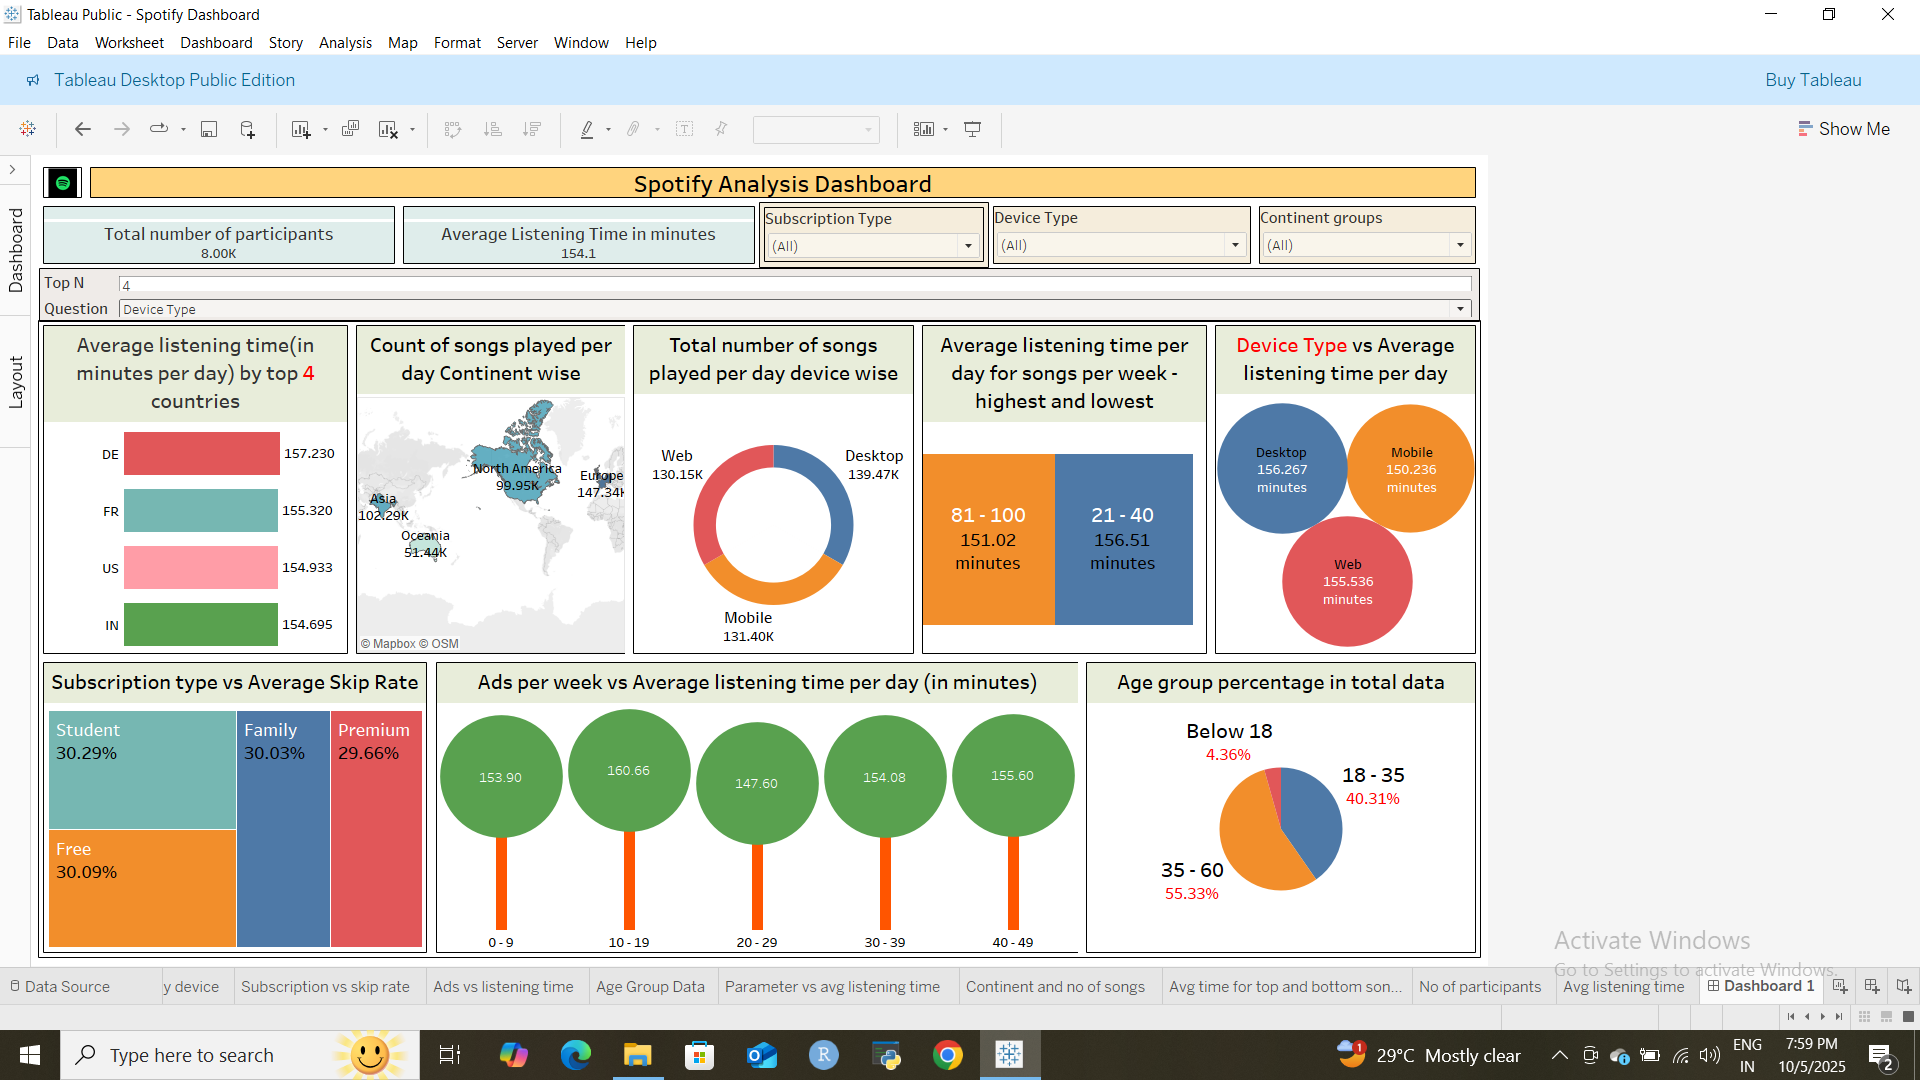

The page's visual inventory and layout, read from the dashboard file:
{"tool":"tableau","page":{"name":"Spotify Dashboard","canvas":[1000,1000],"units":"permille","ordinal":0},"visuals":[{"type":"image","param":"Image/9f5edc36-eb4d-414a-8447-10514f2bc224-cover.png","box":[4.2,9.9,32.5,48.1]},{"type":"text","box":[36.8,9.9,959,48.1]},{"type":"worksheet","title":"No of participants","mark":"Automatic","box":[4.2,57.9,247.8,81.4]},{"type":"worksheet","title":"Avg listening time","mark":"Automatic","box":[252.1,57.9,247.9,81.4]},{"type":"filter","title":"Songs played by device","param":"[federated.1gn5vaq1ly7l3y17p7z3v0p7hh3u].[none:device_type:nk]","box":[657.9,57.9,183.1,81.4]},{"type":"filter","title":"Continent and no of songs","param":"[federated.1gn5vaq1ly7l3y17p7z3v0p7hh3u].[Conuntry grouped to Continents]","box":[841,57.9,154.8,81.4]},{"type":"filter","title":"Subscription vs skip rate","param":"[federated.1gn5vaq1ly7l3y17p7z3v0p7hh3u].[none:subscription_type:nk]","box":[500.5,59.1,156.9,77.7]},{"type":"parameter","param":"[Parameters].[Parameter 1]","box":[4.8,140.6,990.5,32.1]},{"type":"parameter","param":"[Parameters].[Parameter 2]","box":[4.8,172.6,990.5,32.1]},{"type":"worksheet","title":"Avg list time parameter","mark":"Automatic","rows":["country"],"cols":["listening_time"],"box":[4.8,203.5,214.8,416.8]},{"type":"worksheet","title":"Continent and no of songs","mark":"Automatic","box":[219.7,203.5,190.8,416.8]},{"type":"worksheet","title":"Songs played by device","mark":"Pie","rows":["Calculation_955326126356881410","Calculation_955326126356897796"],"box":[410.5,203.5,198.6,416.8]},{"type":"worksheet","title":"Avg time for top and bottom songs","mark":"Automatic","cols":["listening_time"],"box":[609.1,203.5,201.3,416.8]},{"type":"worksheet","title":"Parameter vs avg listening time","mark":"Circle","box":[810.4,203.5,184.8,416.8]},{"type":"worksheet","title":"Subscription vs skip rate","mark":"Automatic","box":[4.8,620.2,269.8,369.9]},{"type":"worksheet","title":"Ads vs listening time","mark":"Automatic","rows":["listening_time","listening_time"],"cols":["Calculation_955326126362046473"],"box":[274.6,620.2,447.2,369.9]},{"type":"worksheet","title":"Age Group Data","mark":"Pie","box":[721.8,620.2,273.4,369.9]}]}

Visuals, with their boxes on the dashboard's canvas, which has no fixed pixel size, in thousandths of its width and height (x1, y1, x2, y2). These are canvas units, not pixel positions in the 1920x1080 screenshot, which may show the page scaled, cropped or inside an application window:
image: 4:10:37:58
text: 37:10:996:58
"No of participants" worksheet: 4:58:252:139
"Avg listening time" worksheet: 252:58:500:139
"Songs played by device" filter: 658:58:841:139
"Continent and no of songs" filter: 841:58:996:139
"Subscription vs skip rate" filter: 500:59:657:137
parameter: 5:141:995:173
parameter: 5:173:995:205
"Avg list time parameter" worksheet: 5:204:220:620
"Continent and no of songs" worksheet: 220:204:410:620
"Songs played by device" worksheet (Pie marks): 410:204:609:620
"Avg time for top and bottom songs" worksheet: 609:204:810:620
"Parameter vs avg listening time" worksheet (Circle marks): 810:204:995:620
"Subscription vs skip rate" worksheet: 5:620:275:990
"Ads vs listening time" worksheet: 275:620:722:990
"Age Group Data" worksheet (Pie marks): 722:620:995:990
